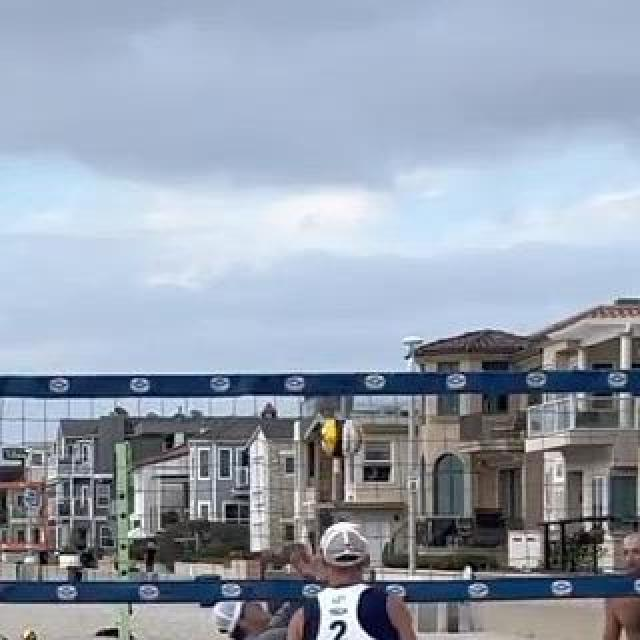volleyball: (321, 417, 361, 459), (22, 628, 38, 640)
